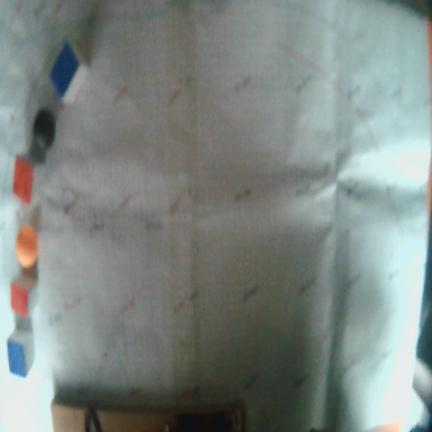circle_blue: (27, 107, 56, 164)
circle_orange: (16, 224, 37, 268)
rectangle_blue: (50, 41, 78, 98)
rectangle_orange: (11, 284, 30, 316)
square_blue: (7, 337, 26, 377)
square_orange: (13, 156, 33, 203)
